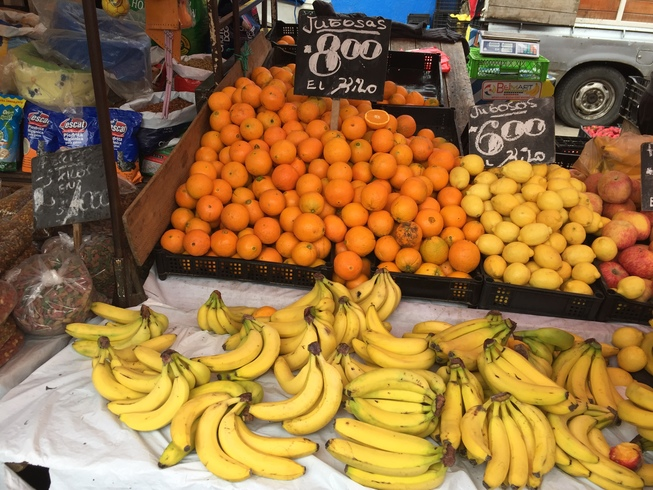precio: (293, 7, 391, 107), (464, 91, 568, 180)
